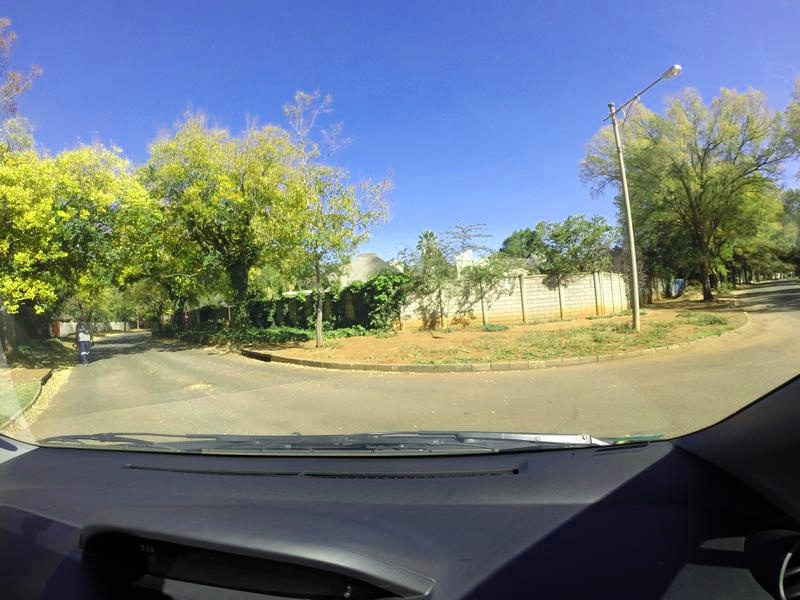pothole: (179, 371, 221, 399)
